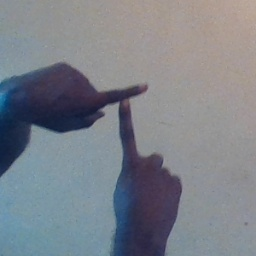T: (81, 70, 167, 173)
